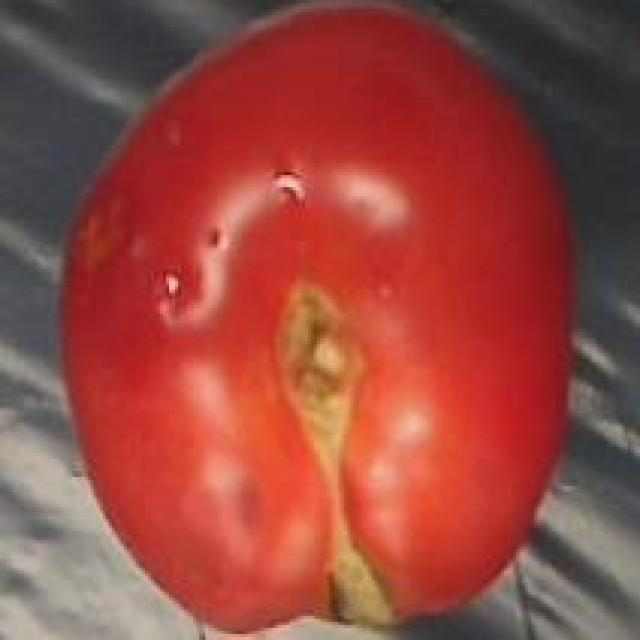overripe tomato: (54, 3, 577, 640)
